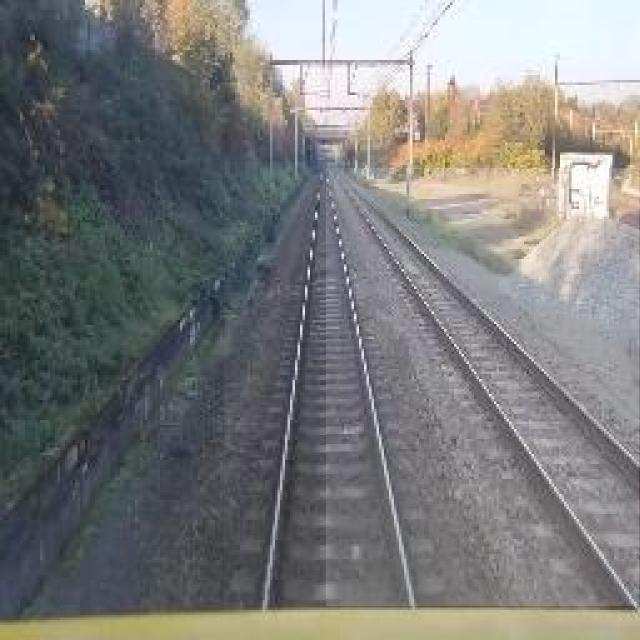rail: (328, 170, 640, 607), (225, 164, 441, 613)
